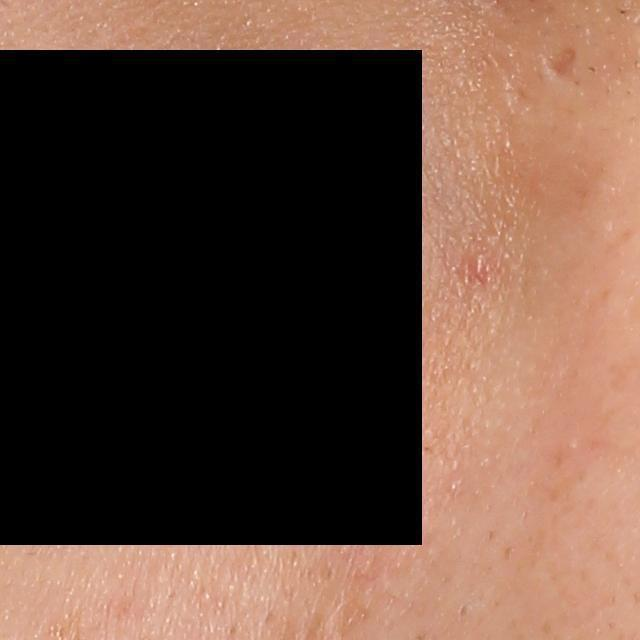atrophic_scar: (543, 45, 578, 82)
